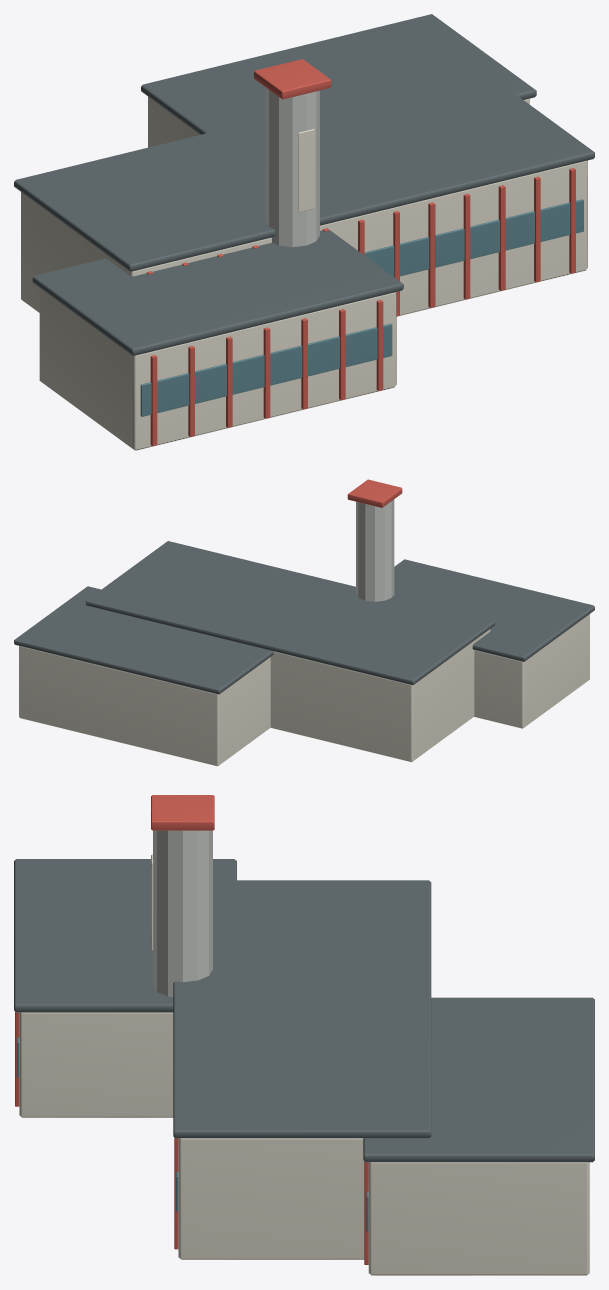
The model's file is fatec-itapetininga-buildings.glb.
The picture shows the model from 3 angles, top to bottom: view 1: azimuth 30°, elevation 25°; view 2: azimuth 150°, elevation 25°; view 3: azimuth 270°, elevation 25°; orthographic projection. The views are drawn at different scales.
Parts seen in each view (by area): view 1: Main_Wing_Dark_Roof, Left_Wing_Dark_Roof, Left_Wing_Volume, Main_Wing_Volume, Rear_Wing_Dark_Roof, Left_Wing_Window_Band, Central_Entrance_Tower, Main_Wing_Window_Band, Tower_Red_Cap, Rear_Wing_Volume, Tower_Sign_Panel, Main_Wing_Red_Pier_9 (+11 smaller); view 2: Main_Wing_Dark_Roof, Rear_Wing_Volume, Main_Wing_Volume, Rear_Wing_Dark_Roof, Left_Wing_Dark_Roof, Left_Wing_Volume, Central_Entrance_Tower, Tower_Red_Cap; view 3: Main_Wing_Dark_Roof, Rear_Wing_Dark_Roof, Rear_Wing_Volume, Main_Wing_Volume, Left_Wing_Dark_Roof, Left_Wing_Volume, Central_Entrance_Tower, Tower_Red_Cap.
Boxes of the visible parts, x1,y1,x2,y2 form: Main_Wing_Dark_Roof: (14,67,594,271); Left_Wing_Dark_Roof: (32,230,403,355); Left_Wing_Volume: (39,288,396,450); Main_Wing_Volume: (21,160,587,316); Rear_Wing_Dark_Roof: (141,14,536,134); Left_Wing_Window_Band: (140,323,392,416); Central_Entrance_Tower: (265,87,319,247); Main_Wing_Window_Band: (364,199,583,276); Tower_Red_Cap: (254,59,331,99); Rear_Wing_Volume: (148,96,529,147); Tower_Sign_Panel: (298,129,314,212); Main_Wing_Red_Pier_9: (428,202,435,308); Main_Wing_Dark_Roof: (85,541,495,685); Rear_Wing_Volume: (19,646,270,766); Main_Wing_Volume: (270,629,490,762); Rear_Wing_Dark_Roof: (14,586,273,694); Left_Wing_Dark_Roof: (394,559,594,661); Left_Wing_Volume: (474,614,589,728); Central_Entrance_Tower: (356,499,394,601); Tower_Red_Cap: (347,479,402,507); Main_Wing_Dark_Roof: (173,880,431,1138); Rear_Wing_Dark_Roof: (363,997,594,1162); Rear_Wing_Volume: (368,1162,589,1275); Main_Wing_Volume: (178,1138,364,1259); Left_Wing_Dark_Roof: (14,859,236,1012); Left_Wing_Volume: (19,1012,173,1117); Central_Entrance_Tower: (153,830,212,996); Tower_Red_Cap: (151,795,214,830).
Bounding box in the file's own units: 8.12 × 3.68 × 6.57.
